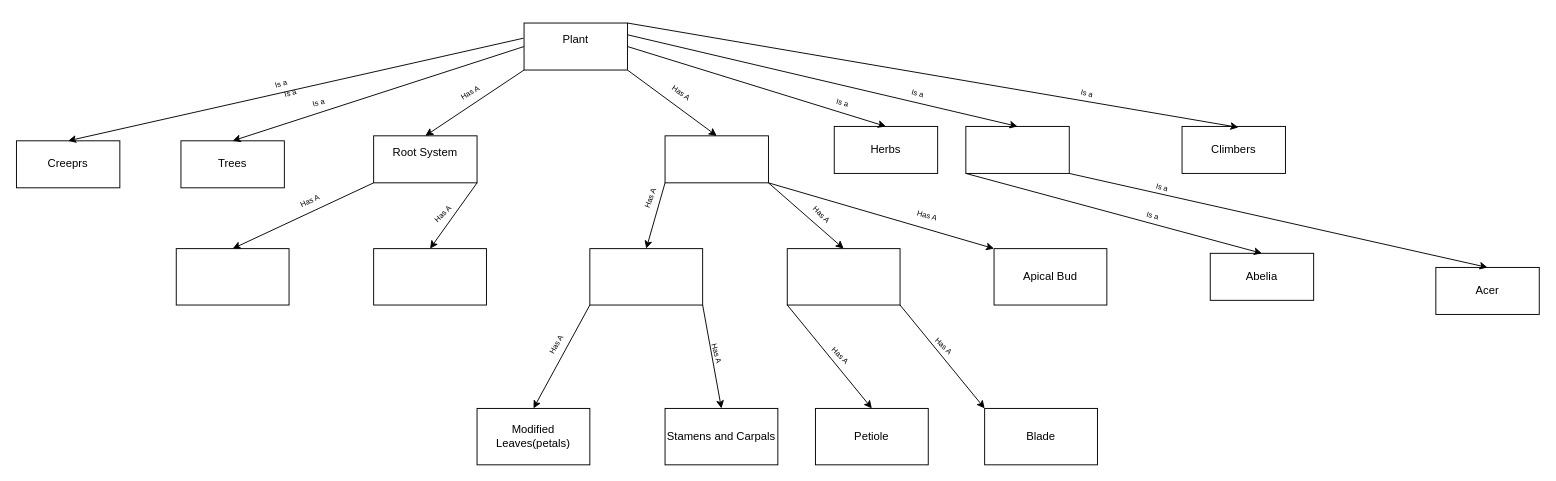
Some shapes in this 1556 by 481 pixel diagram are drawn without their labels. The shapes that lost their labels are listed below. From the top down, each one's box as (x1, y1, x2, y2) in pixels, then its label:
(664, 135, 768, 183): Shoot System
(965, 125, 1069, 173): Shrubs
(175, 248, 289, 305): Taproot
(373, 248, 486, 305): Lateral Roots
(589, 248, 703, 305): Flower
(786, 248, 900, 305): Leaf
